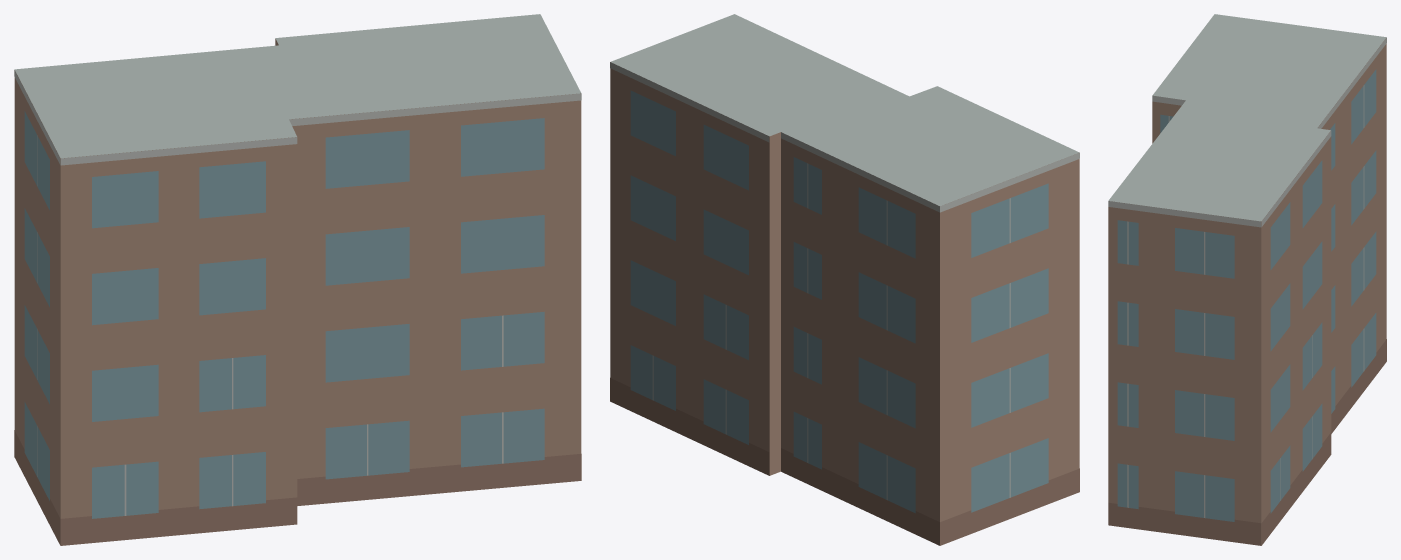
File: survey-upis-32719153.glb
The picture shows the model from 3 angles, left to right: view 1: azimuth 30°, elevation 25°; view 2: azimuth 150°, elevation 25°; view 3: azimuth 270°, elevation 25°; orthographic projection. The views are drawn at different scales.
Parts seen in each view (by area): view 1: survey-upis-32719153.tmp; view 2: survey-upis-32719153.tmp; view 3: survey-upis-32719153.tmp.
Boxes of the visible parts, x1,y1,x2,y2 form: survey-upis-32719153.tmp: (14, 14, 581, 545); survey-upis-32719153.tmp: (610, 14, 1079, 545); survey-upis-32719153.tmp: (1108, 14, 1386, 545).
Size of the model in its own units: 18.18 by 13.25 by 10.32.
